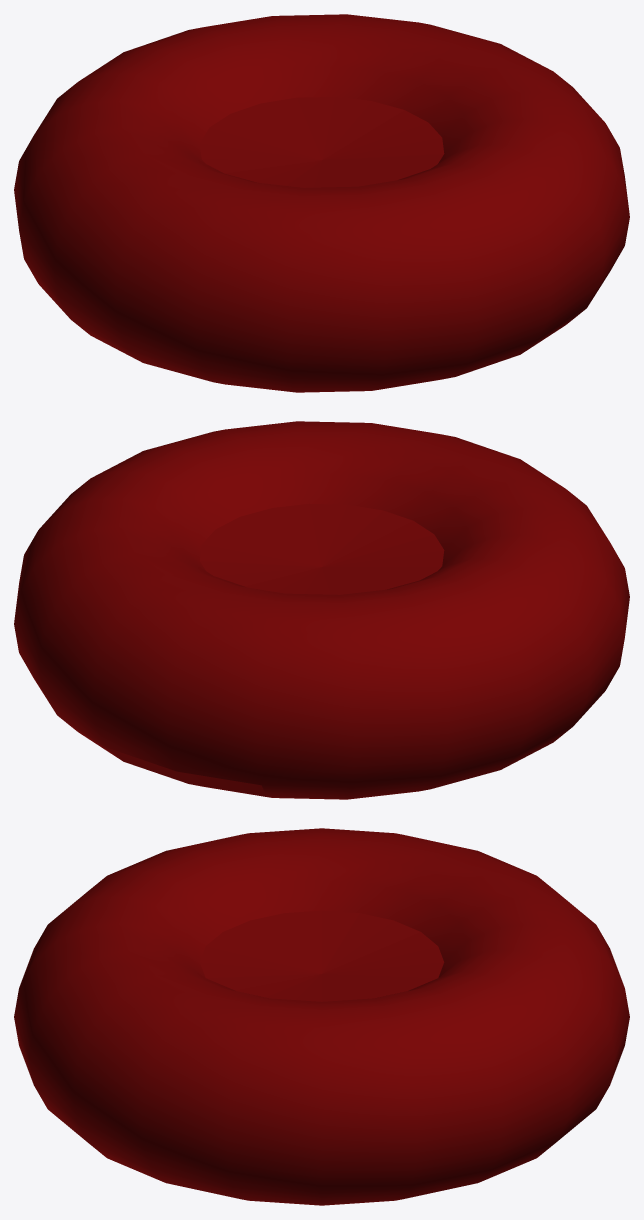
File: RedBloodCellSolid.fbx
3 renders of one model, top to bottom at view 1: azimuth 30°, elevation 25°; view 2: azimuth 150°, elevation 25°; view 3: azimuth 270°, elevation 25°, orthographic.
Parts seen in each view (by area): view 1: pTorus1; view 2: pTorus1; view 3: pTorus1.
Part boxes in pixels (x1,y1,x2,y2): pTorus1: (14,14,629,392); pTorus1: (14,421,629,799); pTorus1: (14,828,629,1205).
Size of the model in its own units: 3 by 1 by 3.
